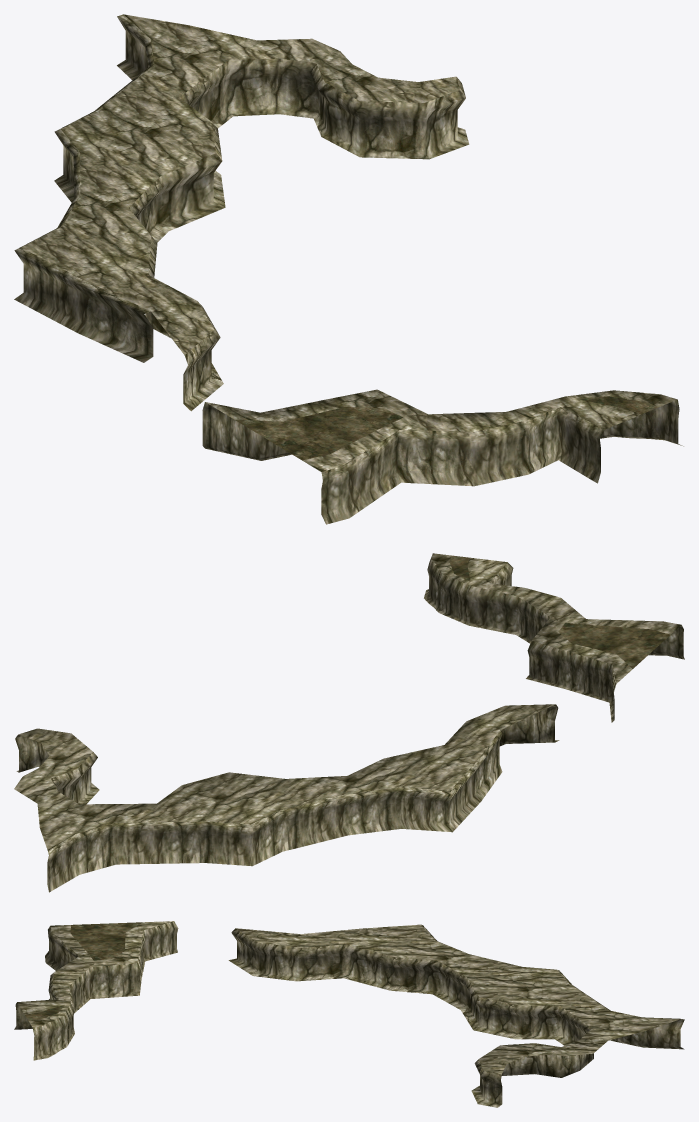
The model's file is CB_NEWPLAYSURFACE_CB_PLAYSURFACE91.fbx.
3 renders of one model, top to bottom at view 1: azimuth 30°, elevation 25°; view 2: azimuth 150°, elevation 25°; view 3: azimuth 270°, elevation 25°, orthographic. The views are drawn at different scales.
Visible parts, largest first — view 1: CB_NEWPLAYSURFACE_CB_PLAYSURFACE91; view 2: CB_NEWPLAYSURFACE_CB_PLAYSURFACE91; view 3: CB_NEWPLAYSURFACE_CB_PLAYSURFACE91.
Part boxes in pixels (left/top/right/bottom): CB_NEWPLAYSURFACE_CB_PLAYSURFACE91: left=14, top=14, right=683, bottom=524; CB_NEWPLAYSURFACE_CB_PLAYSURFACE91: left=14, top=553, right=684, bottom=892; CB_NEWPLAYSURFACE_CB_PLAYSURFACE91: left=14, top=921, right=684, bottom=1107.
Size of the model in its own units: 380365 by 36464 by 688304.
3 materials, 3 textured.
